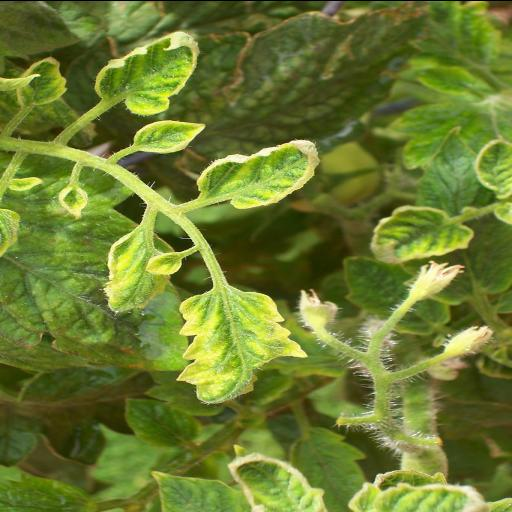disease_tomato: (179, 286, 303, 403), (194, 134, 322, 210), (94, 27, 202, 115), (224, 452, 336, 512), (100, 227, 176, 315), (370, 202, 477, 264), (8, 54, 72, 106), (471, 138, 512, 202), (131, 120, 206, 154)
